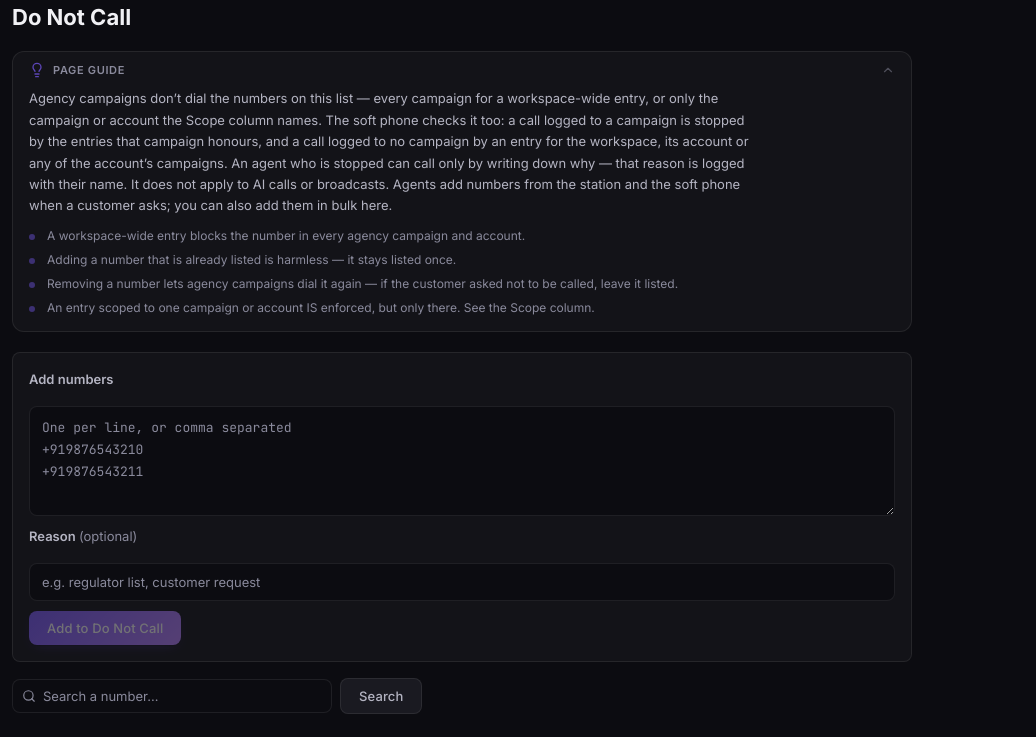
it: DNC — bulk add › reports already-present as a success, not a failure
In the text box labelled "Add numbers": coordinates (462, 461) [29,406,895,516], type "+911111111111"
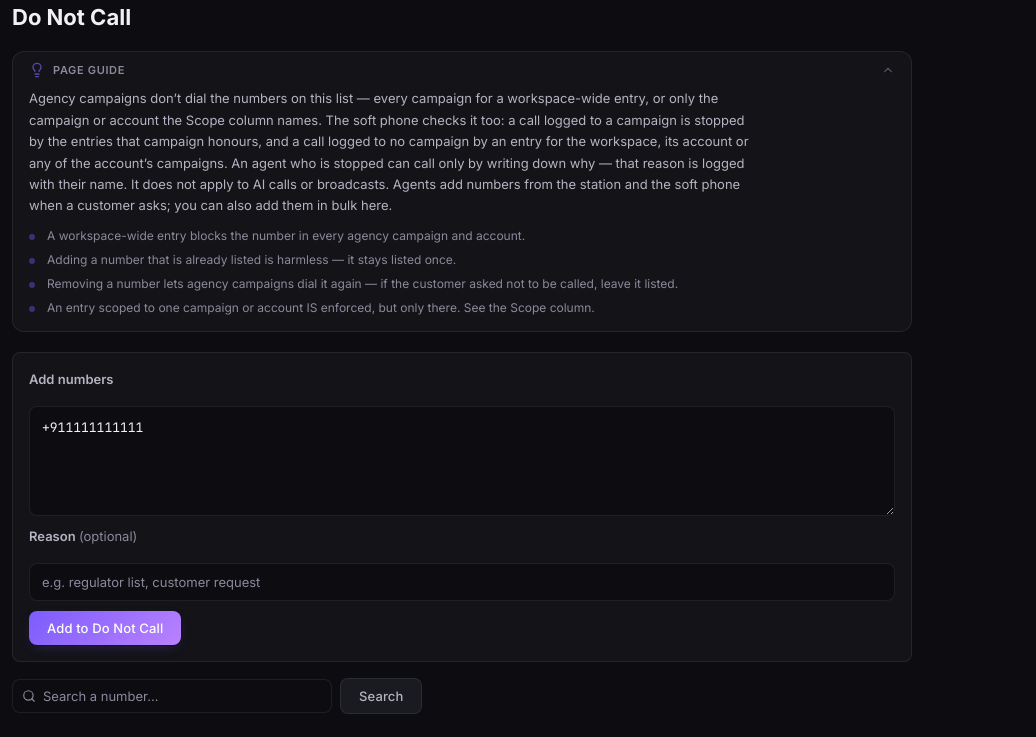
Click the button "Add to Do Not Call": coordinates (105, 628) [29,611,181,645]
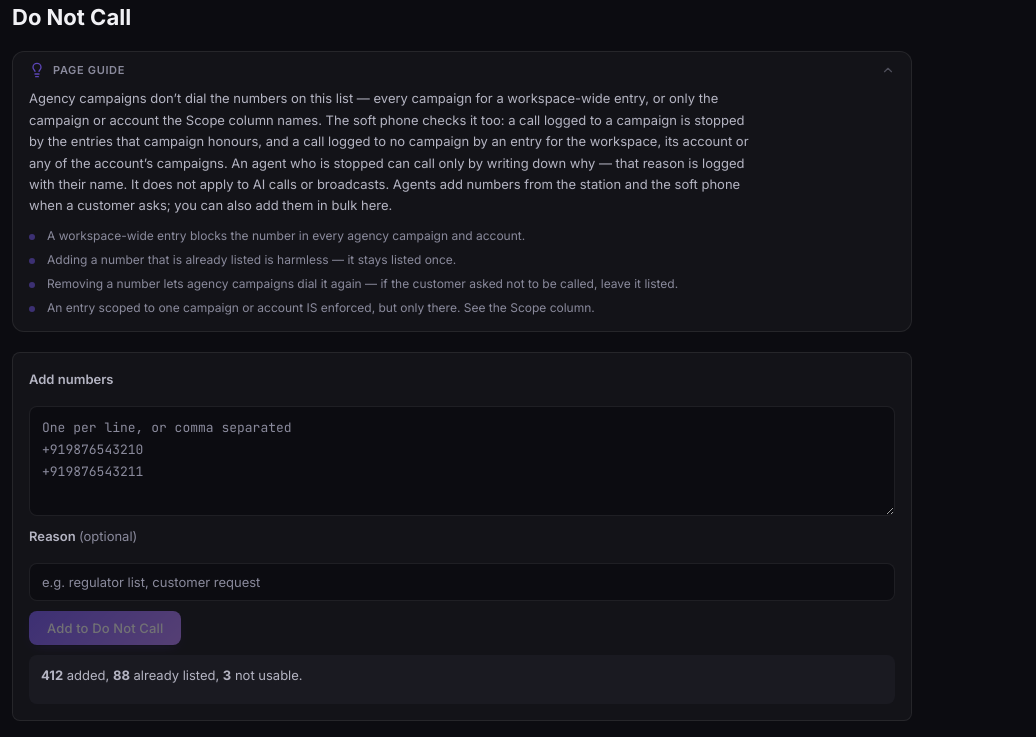
Expected: the list item "already listed" is shown, [47,252,456,267]
Now the text "88" is shown, box [113,667,130,683]
